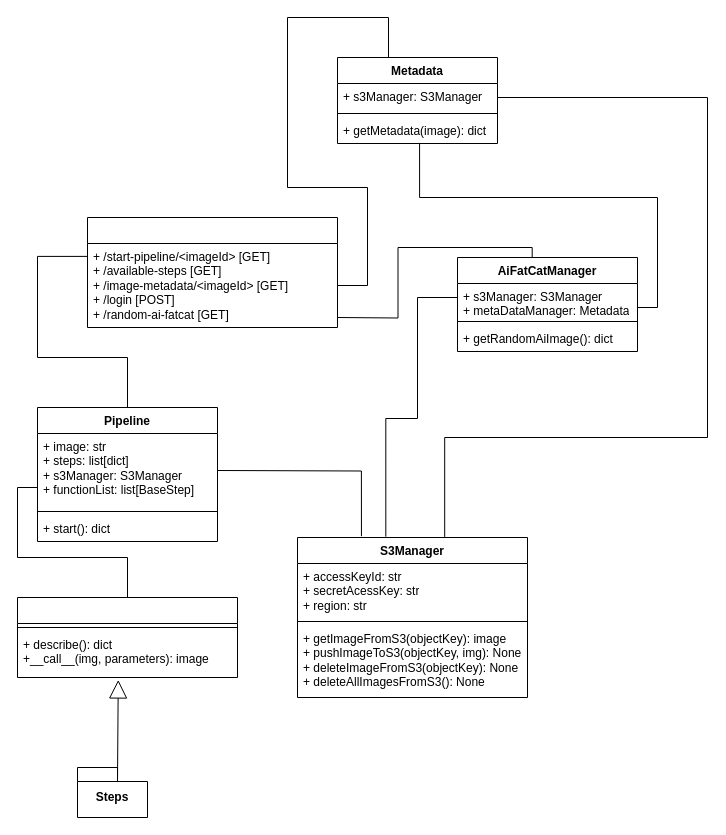
This 726x835 diagram has some shape labels left out. Each missing label, with the box of its shape:
BaseStep: (16, 596, 238, 678)
routes: (86, 216, 338, 328)
